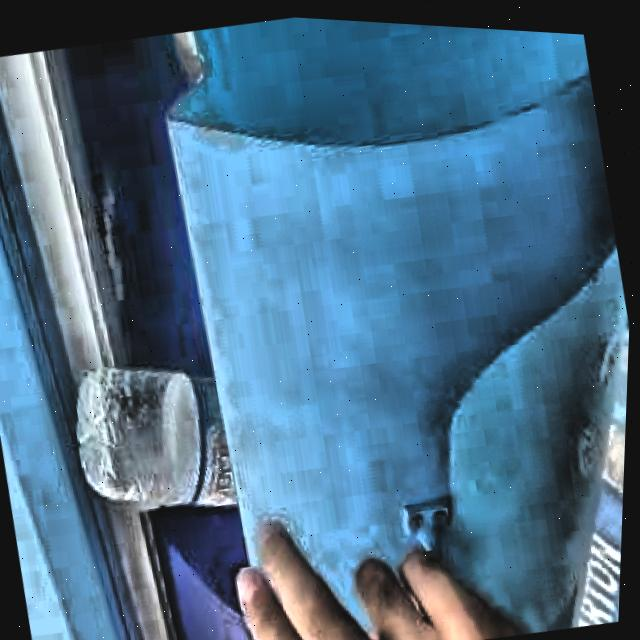plastic: (81, 363, 240, 508)
